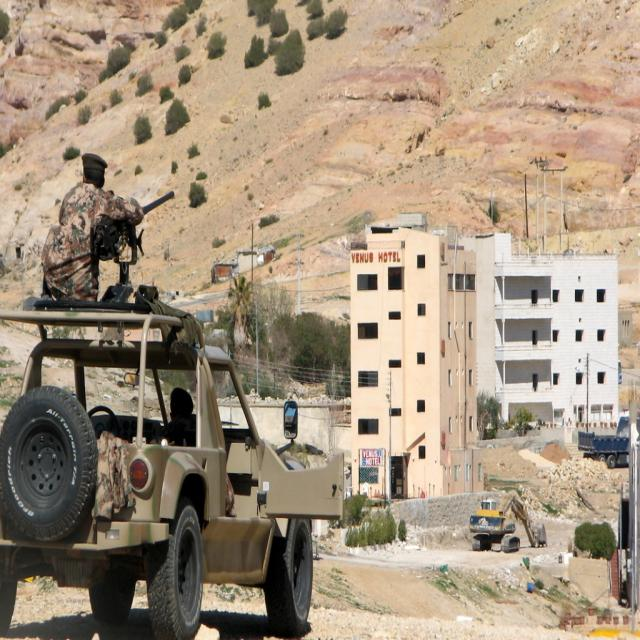car: (6, 256, 345, 632)
